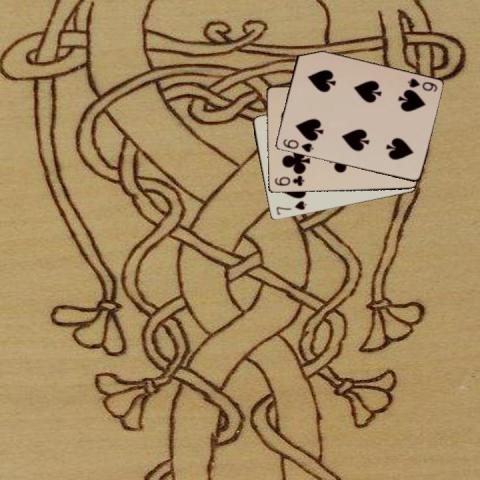6c: (272, 174, 306, 187)
6s: (280, 136, 315, 154), (404, 76, 438, 94)
7s: (273, 198, 308, 217)
